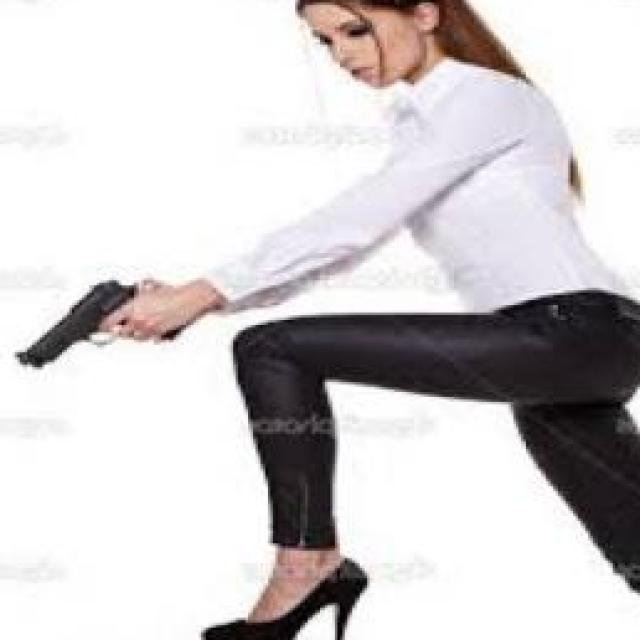pistol: (16, 273, 199, 373)
